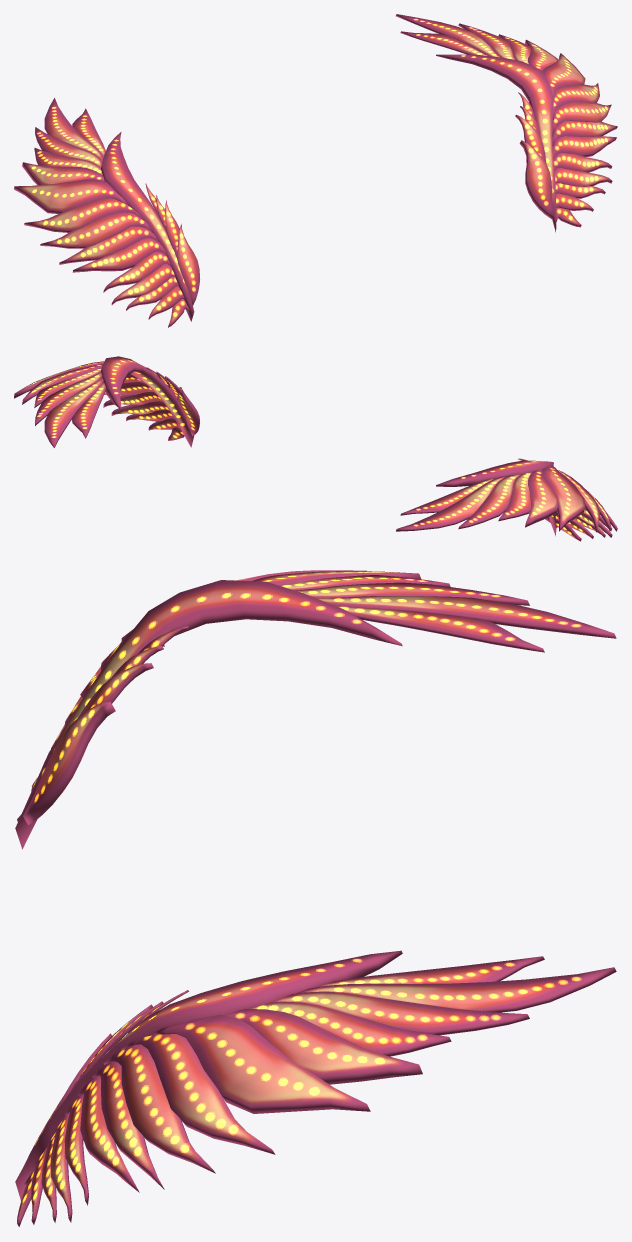
File: dragon's_wings(3).glb
3 views of the same model, one above another, from view 1: azimuth 30°, elevation 25°; view 2: azimuth 150°, elevation 25°; view 3: azimuth 270°, elevation 25° (orthographic). The views are drawn at different scales.
Parts seen in each view (by area): view 1: Dragon's Wings(3); view 2: Dragon's Wings(3); view 3: Dragon's Wings(3).
Part boxes in pixels (x1,y1,x2,y2): Dragon's Wings(3): (14,14,617,327); Dragon's Wings(3): (14,356,617,541); Dragon's Wings(3): (15,570,616,1226).
Size of what is drawn, in the model's own units: 31.22 by 6.26 by 14.17.
1 material, 1 textured.
